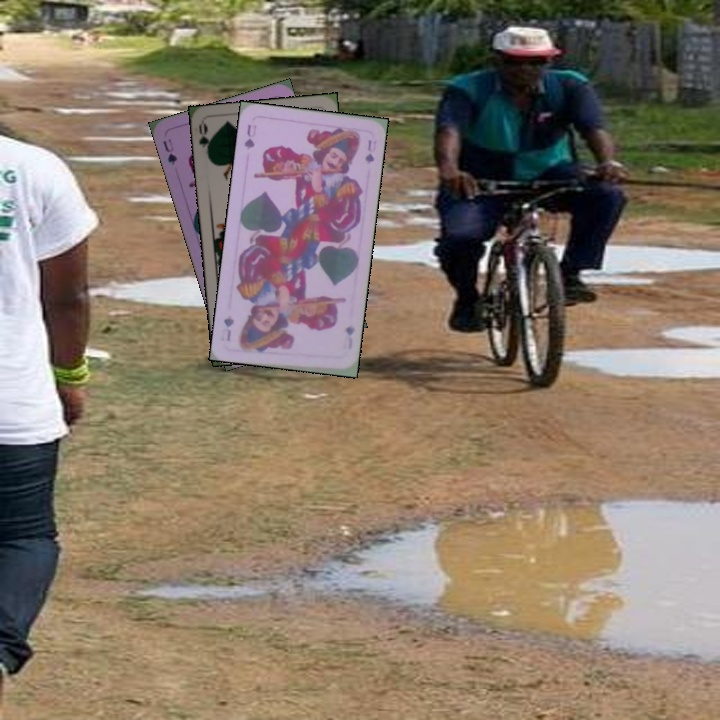GO: (195, 120, 215, 161)
GU: (159, 135, 180, 168), (240, 120, 259, 153), (340, 321, 358, 352)
